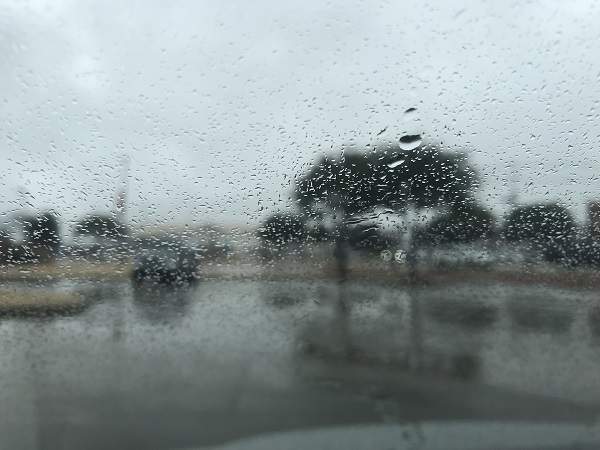car: (129, 246, 208, 288)
